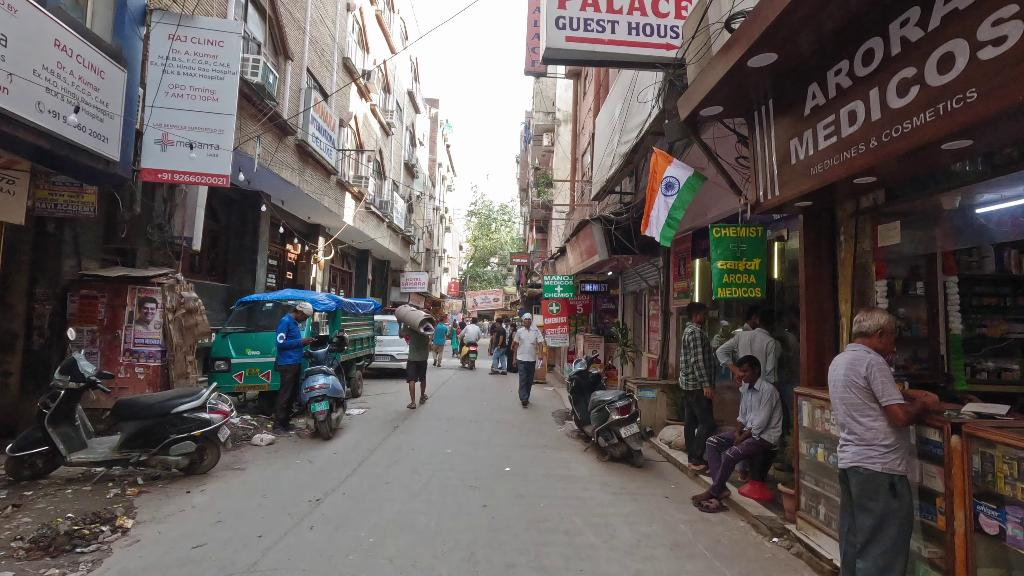garbage: (251, 428, 276, 446)
